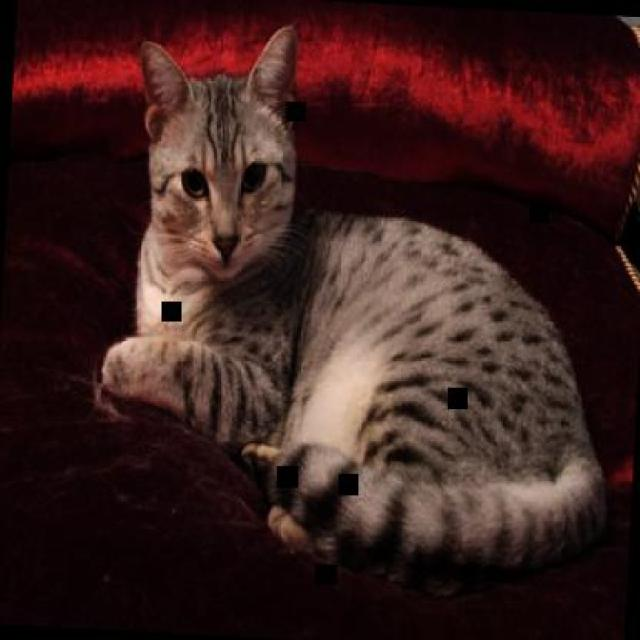cat: (90, 12, 632, 605)
